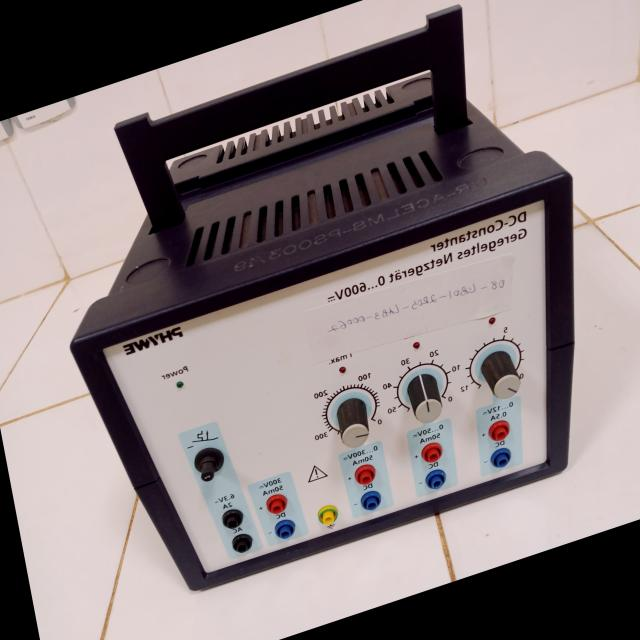DC Constant Power Supply 0-600V: (61, 133, 629, 624)
